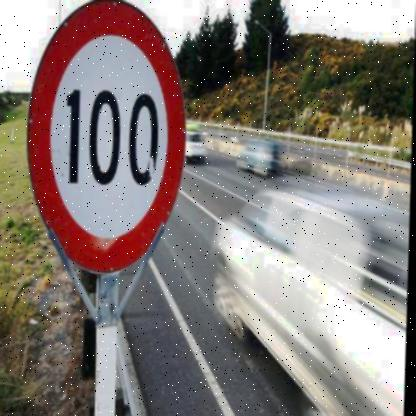Speed Limit -100-: (22, 3, 189, 279)
